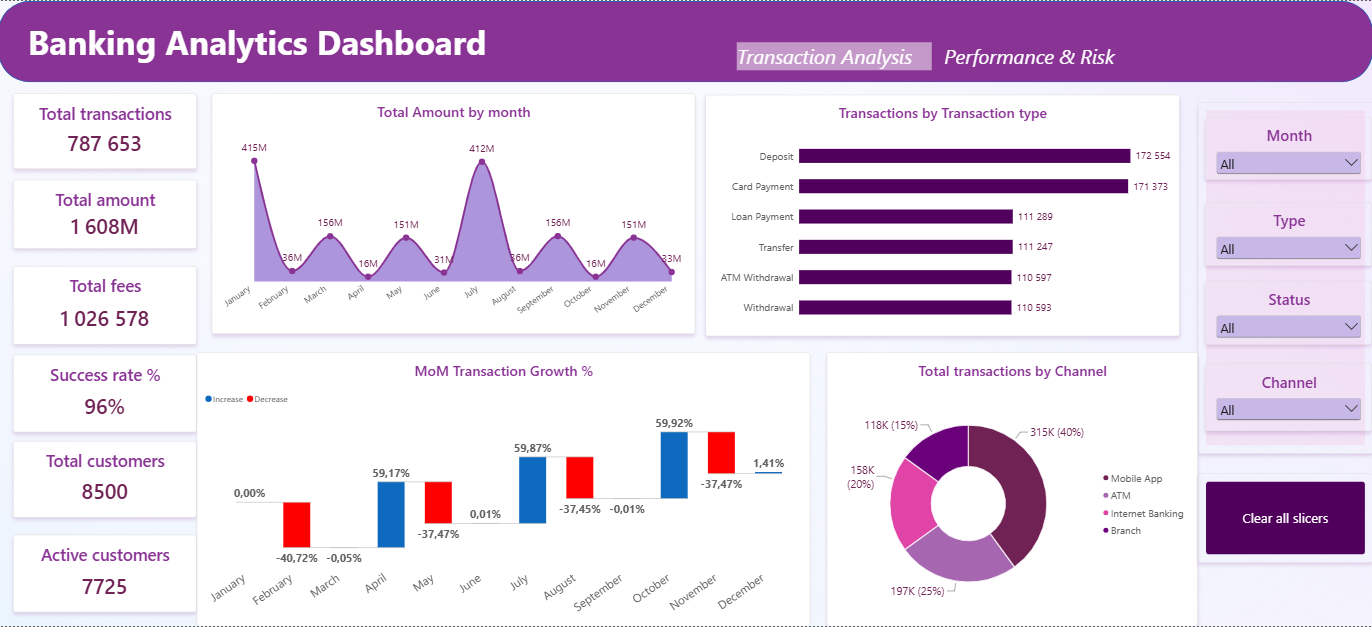

This screenshot's page, from the dashboard's own definition file:
{"tool":"powerbi","page":{"name":"Transaction Analysis","canvas":[2200,1000],"ordinal":0},"visuals":[{"type":"shape","box":[1919.2,161.3,280.2,562.2],"z":0},{"type":"shape","box":[0,0,2200,130],"z":1000},{"type":"textbox","box":[48.3,28.3,842,120],"z":2000},{"type":"card","title":"Total transactions","fields":{"Values":["My calculations.Total transactions"]},"box":[23.8,147.8,293.8,120.6],"z":3000},{"type":"card","title":"Total amount","fields":{"Values":["My calculations.Total Amount"]},"box":[23.8,285.3,293.8,110.4],"z":4000},{"type":"card","title":"Total fees","fields":{"Values":["My calculations.Total fees"]},"box":[23.8,424.6,293.8,125.7],"z":5000},{"type":"card","title":"Total customers","fields":{"Values":["My calculations.Total customers"]},"box":[23.8,704.8,293.8,122.3],"z":6000},{"type":"card","title":"Active customers","fields":{"Values":["My calculations.Active Customers"]},"box":[23.8,854.3,293.8,124],"z":7000},{"type":"card","title":"Success rate %","fields":{"Values":["My calculations.Success rate %"]},"box":[23.8,565.6,293.8,124],"z":8000},{"type":"areaChart","title":"Total Amount by month","fields":{"Category":["Calendar table.Month name"],"Y":["My calculations.Total Amount"]},"box":[341.7,148.3,773.3,385],"z":9000},{"type":"barChart","title":"Transactions by Transaction type","fields":{"Category":["Fact_Transactions.TransactionType"],"Y":["My calculations.Total transactions"]},"box":[1132.8,149.5,758,386],"z":10000},{"type":"donutChart","fields":{"Category":["Fact_Transactions.Channel"],"Y":["My calculations.Total transactions"]},"box":[1326.4,562.2,593.3,438.3],"z":11000},{"type":"waterfallChart","title":"MoM Transaction Growth %","fields":{"Category":["Calendar table.Month name"],"Y":["My calculations.MoM Growth %"]},"box":[317.6,562.2,981.3,438.7],"z":12000},{"type":"slicer","title":"Month","fields":{"Values":["Calendar table.Month name"]},"box":[1932.8,185.1,266.7,100],"z":13000},{"type":"slicer","title":"Type","fields":{"Values":["Fact_Transactions.TransactionType"]},"box":[1932.8,322.7,266.7,101.7],"z":14000},{"type":"slicer","title":"Status","fields":{"Values":["Fact_Transactions.Status"]},"box":[1932.8,448.4,266.7,101.7],"z":15000},{"type":"slicer","title":"Channel","fields":{"Values":["Fact_Transactions.Channel"]},"box":[1932.8,580.8,266.7,108.3],"z":16000},{"type":"textbox","box":[1182.1,65.2,311.7,45],"z":17000},{"type":"textbox","box":[1513.3,65,275,51.7],"z":18000},{"type":"actionButton","box":[1919.2,755.8,280.2,142.7],"z":19000},{"type":"actionButton","box":[1513.3,68.7,274.8,45.8],"z":20000}]}

Visuals, with their boxes in screenshot pixels (x1, y1, x2, y2), scaled from the page's 2200x1000 canvas onto the 1372x627 screenshot:
shape: BBox(1197, 101, 1371, 454)
shape: BBox(0, 0, 1371, 82)
textbox: BBox(30, 18, 555, 93)
"Total transactions" card: BBox(15, 93, 198, 168)
"Total amount" card: BBox(15, 179, 198, 248)
"Total fees" card: BBox(15, 266, 198, 345)
"Total customers" card: BBox(15, 442, 198, 519)
"Active customers" card: BBox(15, 536, 198, 613)
"Success rate %" card: BBox(15, 355, 198, 432)
"Total Amount by month" areaChart: BBox(213, 93, 695, 334)
"Transactions by Transaction type" barChart: BBox(706, 94, 1179, 336)
donutChart - Fact_Transactions.Channel x My calculations.Total transactions: BBox(827, 352, 1197, 626)
"MoM Transaction Growth %" waterfallChart: BBox(198, 352, 810, 626)
"Month" slicer: BBox(1205, 116, 1371, 179)
"Type" slicer: BBox(1205, 202, 1371, 266)
"Status" slicer: BBox(1205, 281, 1371, 345)
"Channel" slicer: BBox(1205, 364, 1371, 432)
textbox: BBox(737, 41, 932, 69)
textbox: BBox(944, 41, 1115, 73)
actionButton: BBox(1197, 474, 1371, 563)
actionButton: BBox(944, 43, 1115, 72)
